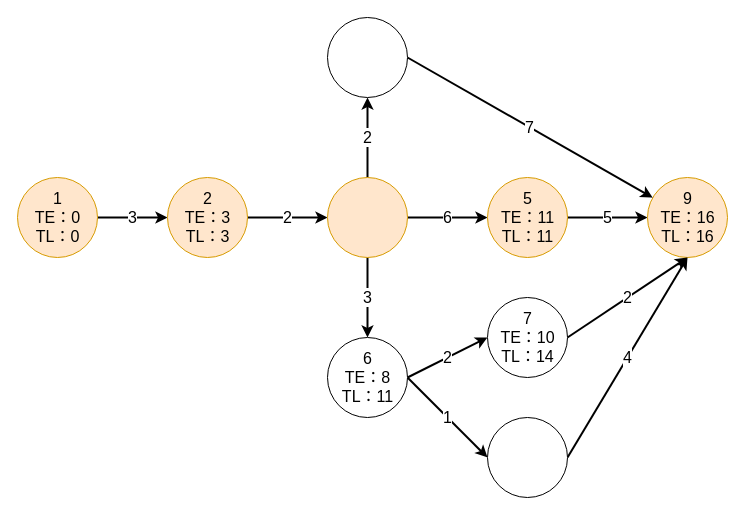
Image size: 745x515. Some labels were removed from this diagram. Here are the shapes that lost their labels. From the top down, the centre of each, then its label:
At pixel 367 57: "4 TE：7 TL：9".
At pixel 367 217: "3 TE：5 TL：5".
At pixel 527 457: "8 TE：9 TL：12".
